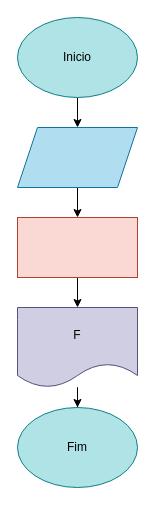
Some shapes in this 155 by 505 pixel diagram are drawn without their labels. Here are the shapes that lost their labels. From the top down, the centre of each, then its label:
(x=77, y=157): C, F
(x=77, y=247): F= (9*C+160)/5
